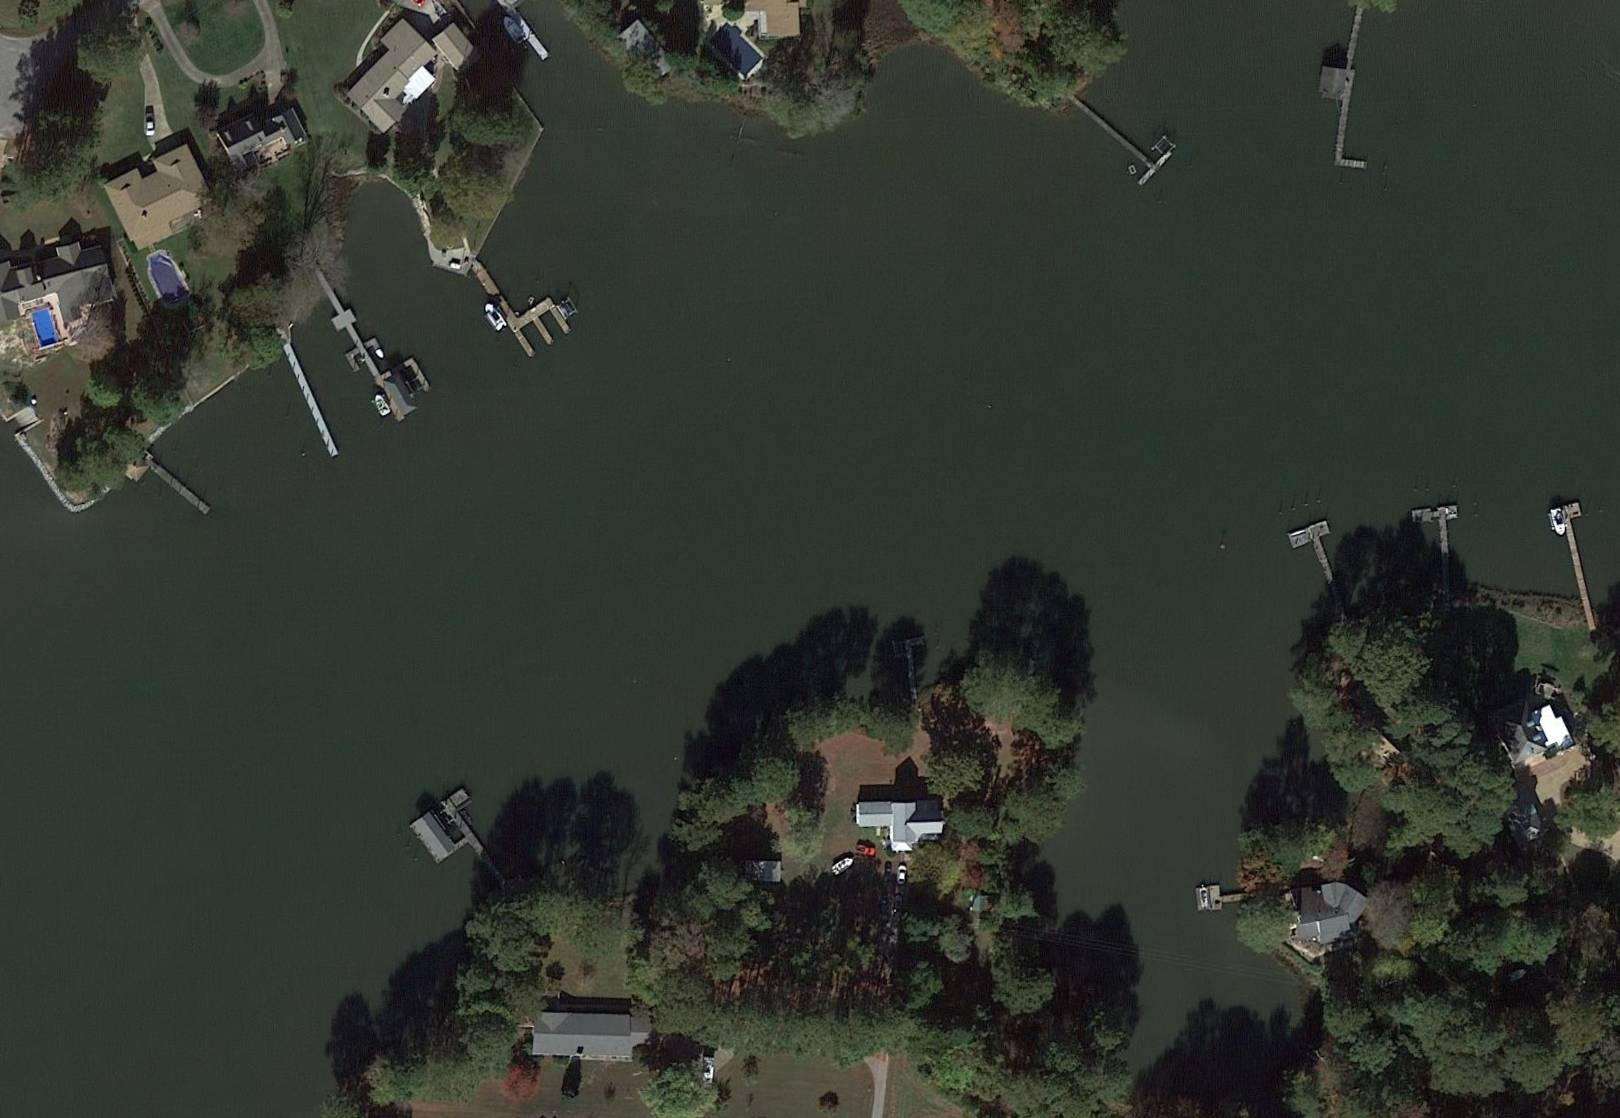harbor: (319, 279, 441, 431), (1059, 79, 1179, 188), (409, 789, 516, 906), (473, 240, 572, 360), (1312, 39, 1380, 172), (286, 355, 342, 459), (1409, 505, 1469, 585), (1286, 520, 1343, 589), (151, 464, 214, 520), (1561, 504, 1597, 593), (1195, 882, 1249, 914)
ship: (479, 299, 508, 337), (500, 14, 528, 50), (1546, 505, 1570, 537), (369, 390, 394, 419), (830, 853, 858, 878), (1197, 884, 1211, 912)
small vehicle: (700, 1056, 716, 1086), (853, 843, 876, 858), (143, 113, 156, 138), (896, 863, 908, 887), (892, 893, 904, 914)
swimming pool: (708, 22, 764, 79), (145, 251, 191, 310), (30, 307, 60, 350)
